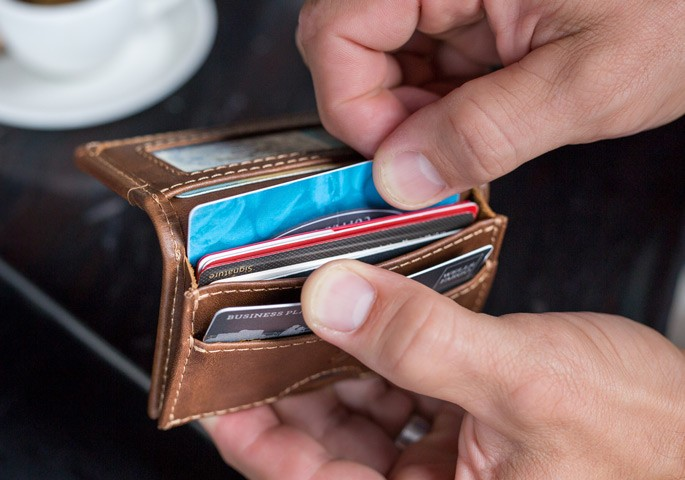monedero: (72, 105, 510, 431)
